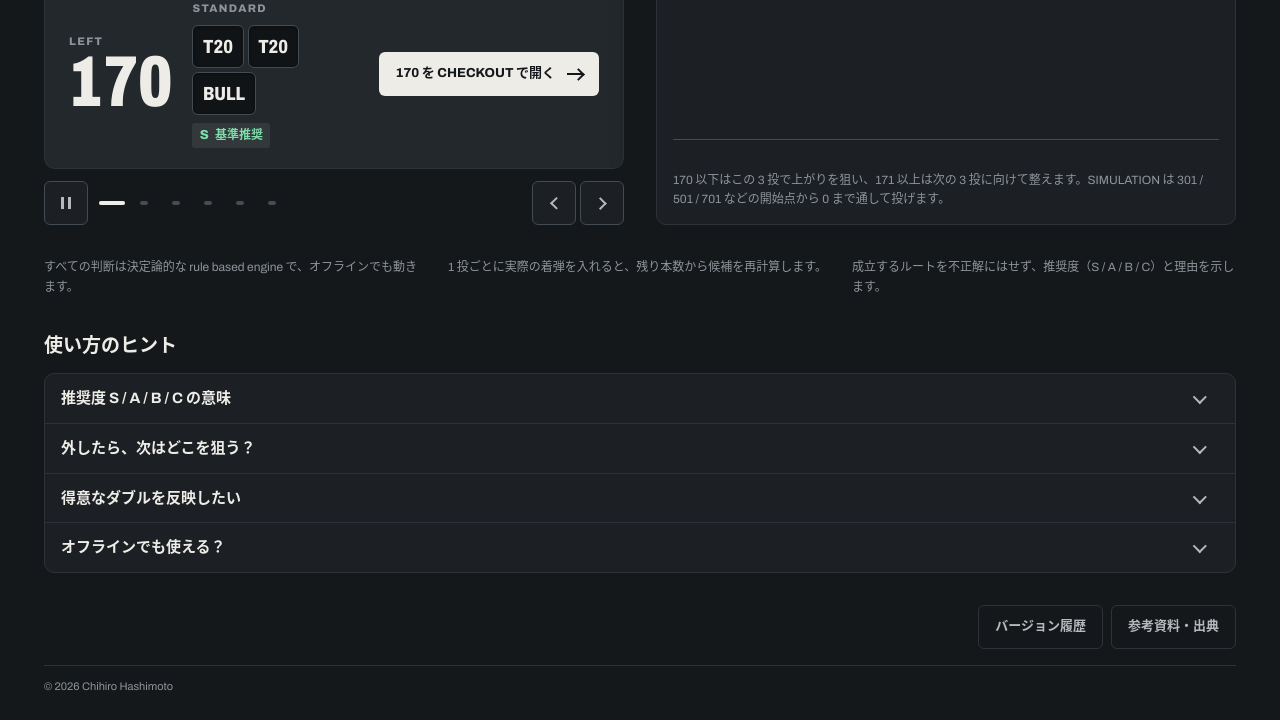
参考資料・出典 › 「トップへ戻る」でトップページへ戻れる
The width and height of the screenshot is (1280, 720).
(page scrolled)
Click the button with test id "home-references": (1174, 627) [1111,605,1236,649]
(page scrolled)
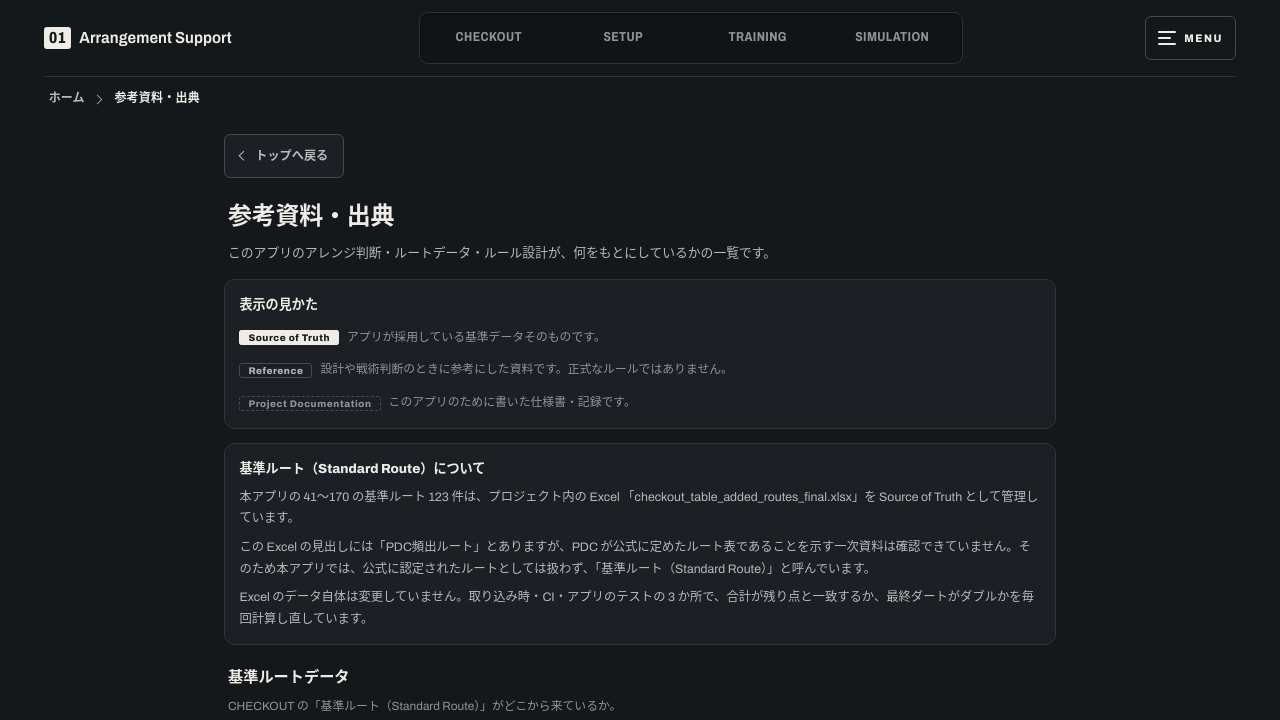
Click the button with test id "references-back": (284, 156) [224,134,344,178]
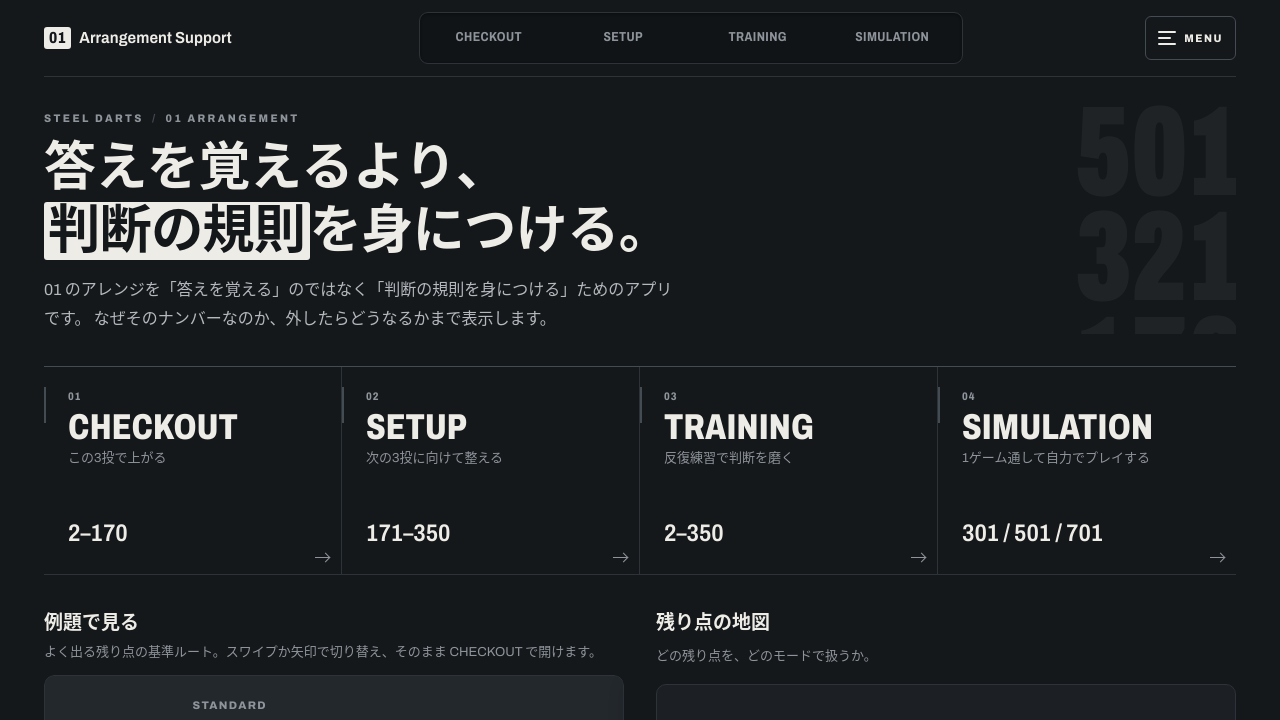
Result: the button with test id "home-checkout" is shown at [44,366,342,574]
